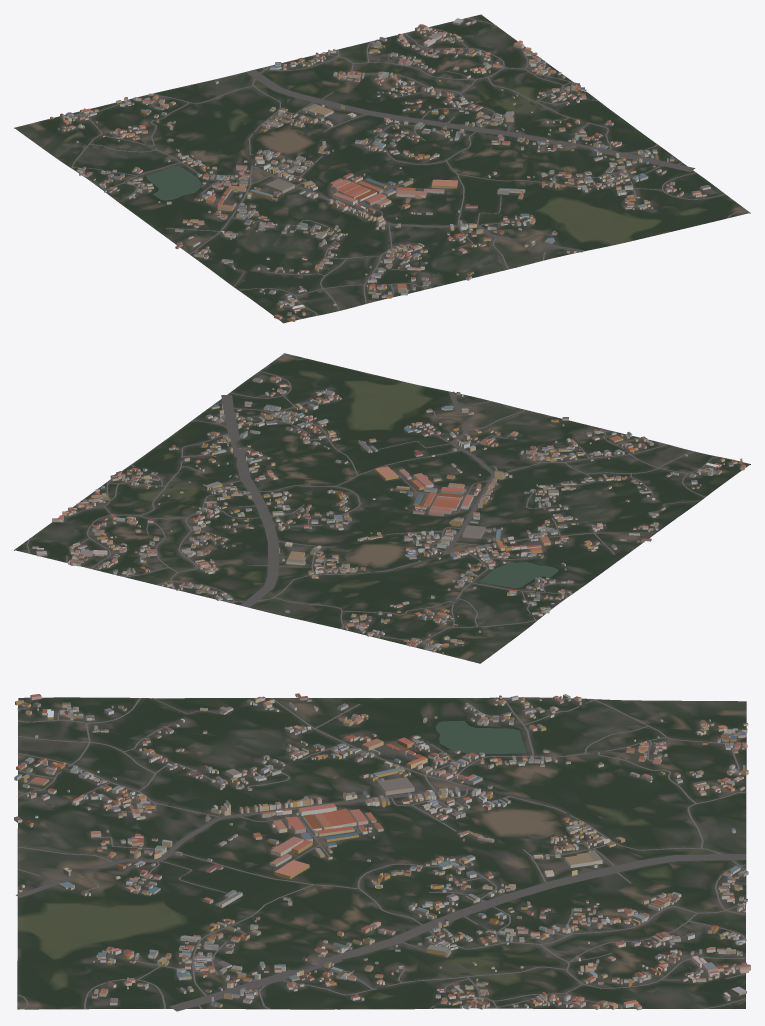
3 renders of one model, top to bottom at view 1: azimuth 30°, elevation 25°; view 2: azimuth 150°, elevation 25°; view 3: azimuth 270°, elevation 25°, orthographic. The views are drawn at different scales.
Visible parts, largest first — view 1: ground, buildings, roads, water; view 2: ground, buildings, roads, water; view 3: ground, buildings, roads, water.
Boxes of the visible parts, x1,y1,x2,y2 form: ground: (14, 14, 750, 323); buildings: (50, 18, 710, 321); roads: (71, 18, 750, 319); water: (146, 165, 200, 200); ground: (14, 353, 750, 663); buildings: (32, 375, 745, 654); roads: (26, 353, 742, 647); water: (479, 562, 558, 588); ground: (17, 697, 746, 1009); buildings: (14, 693, 750, 1010); roads: (16, 698, 746, 1011); water: (435, 720, 526, 754).
Bounding box in the file's own units: 1423 × 33.08 × 1418.
